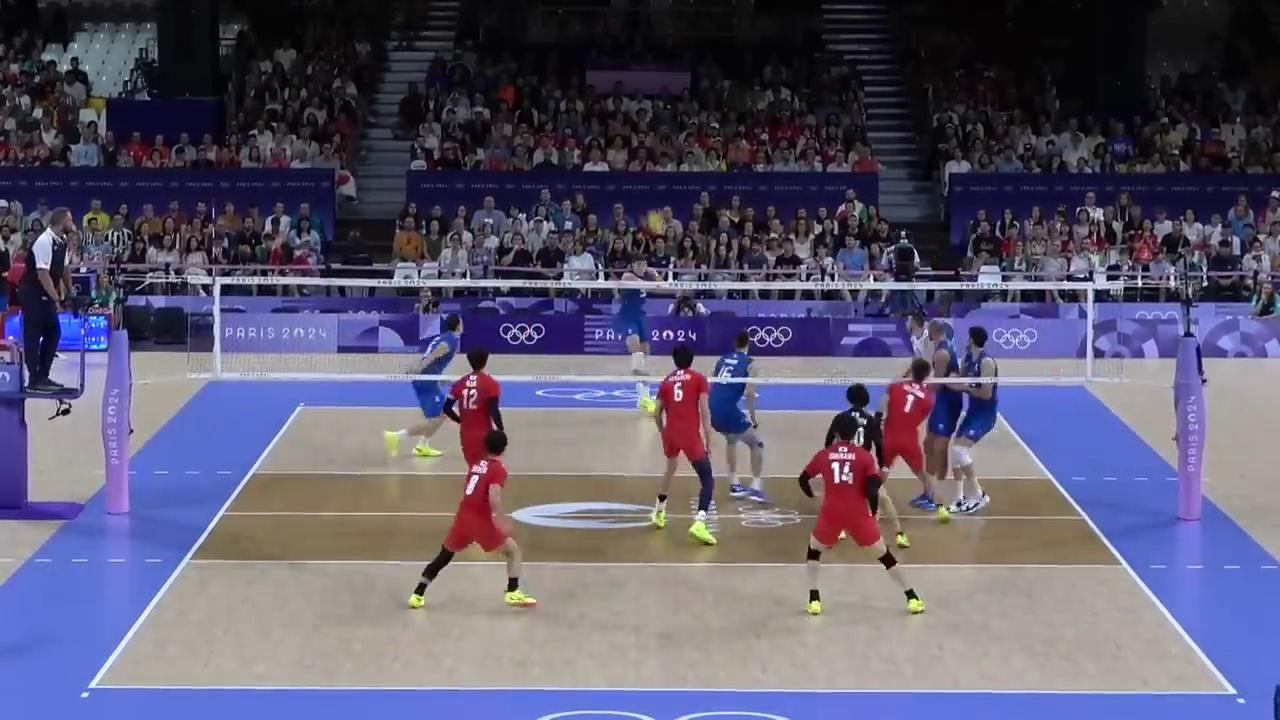ball: (643, 213, 663, 229)
